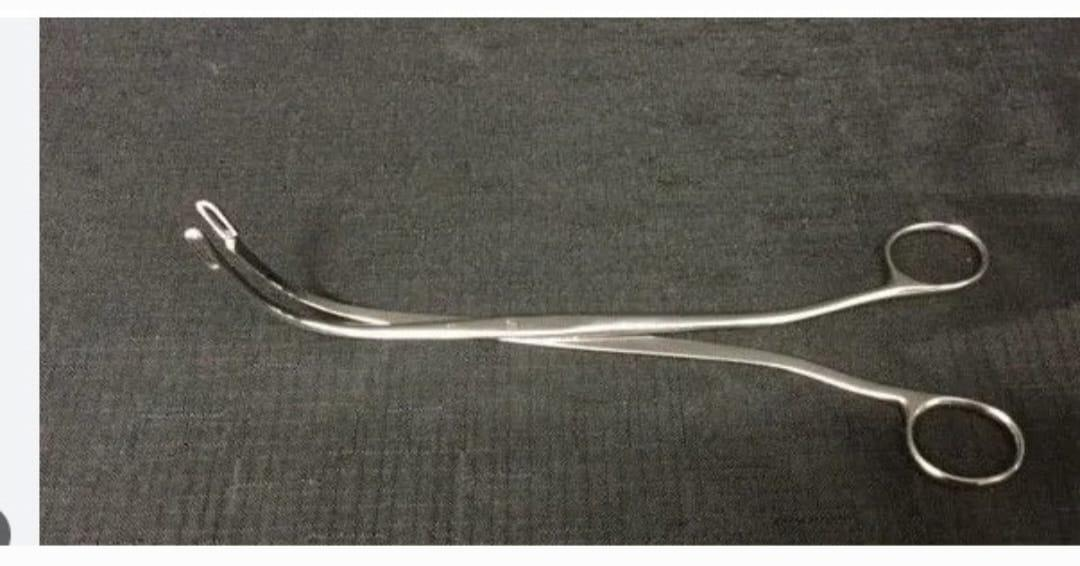Randall Forceps: (178, 182, 1028, 492)
